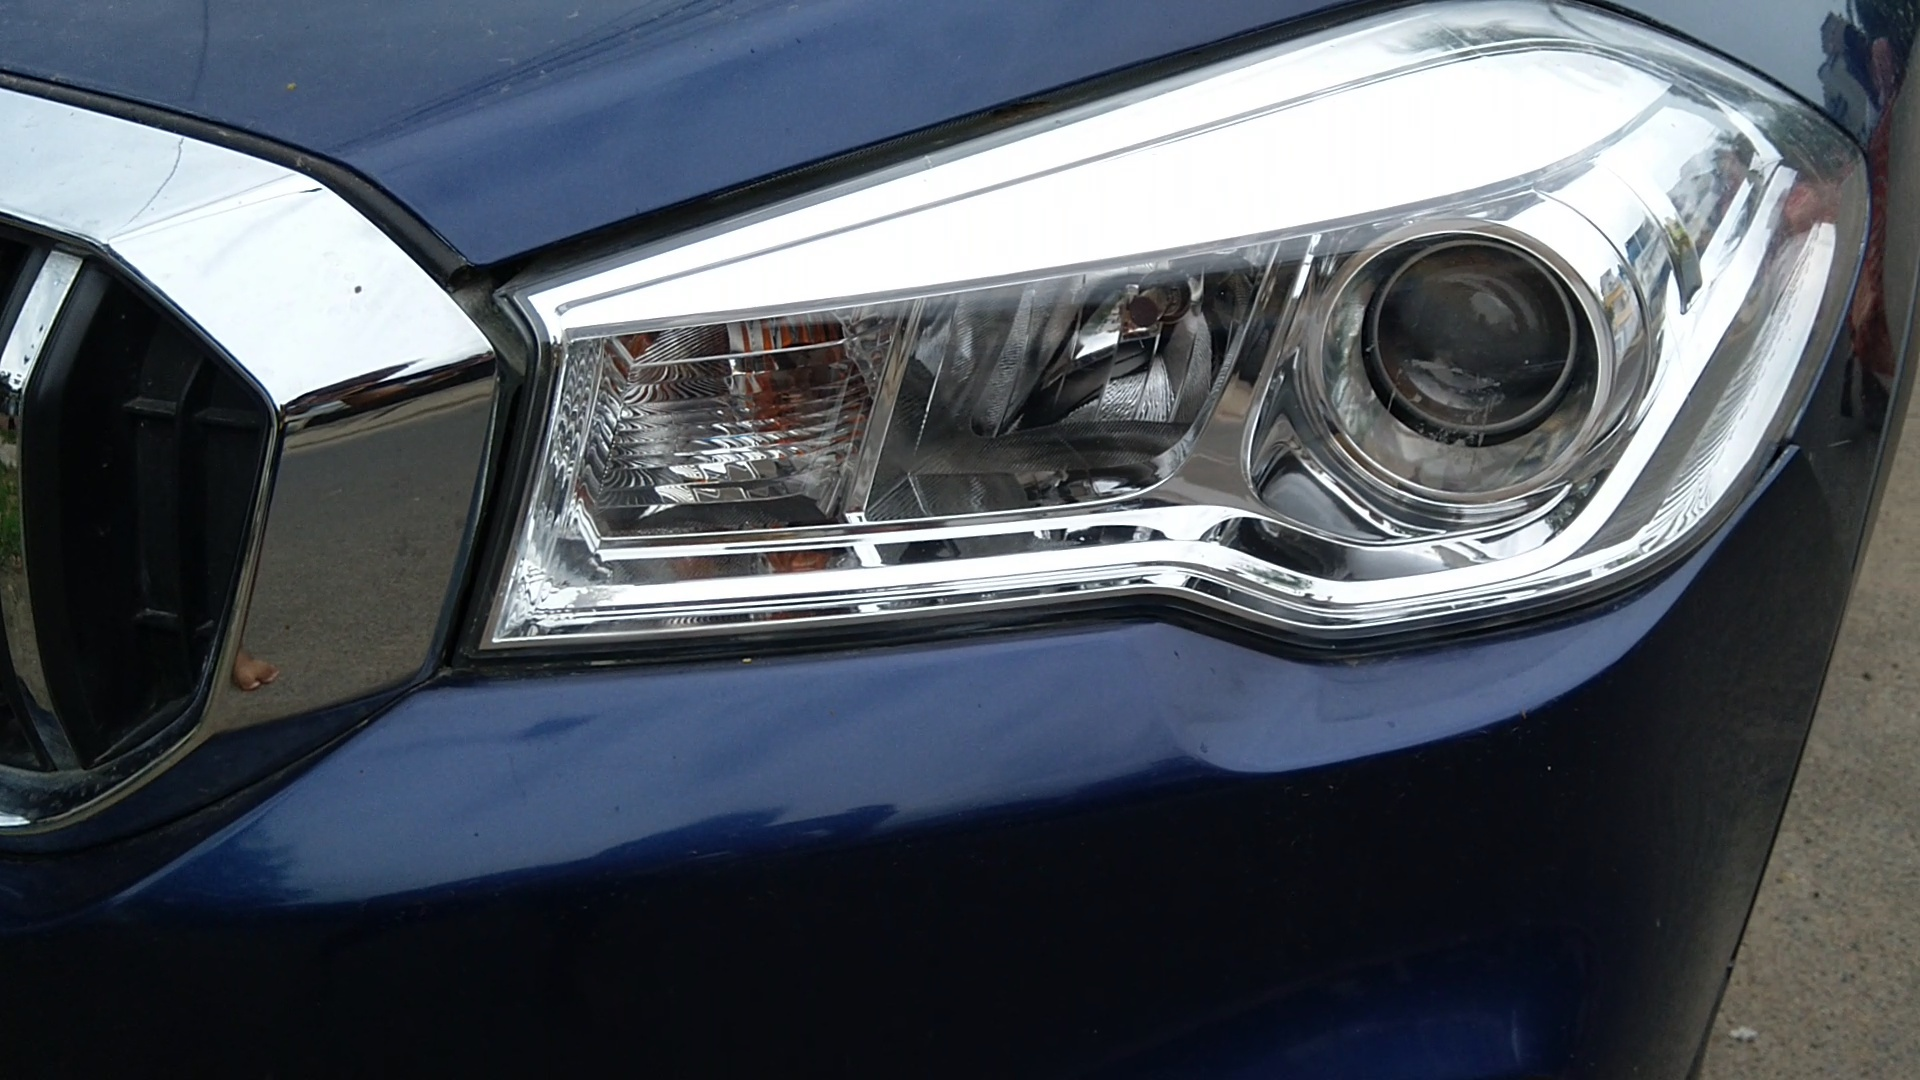headlamp: (431, 1, 1891, 790)
